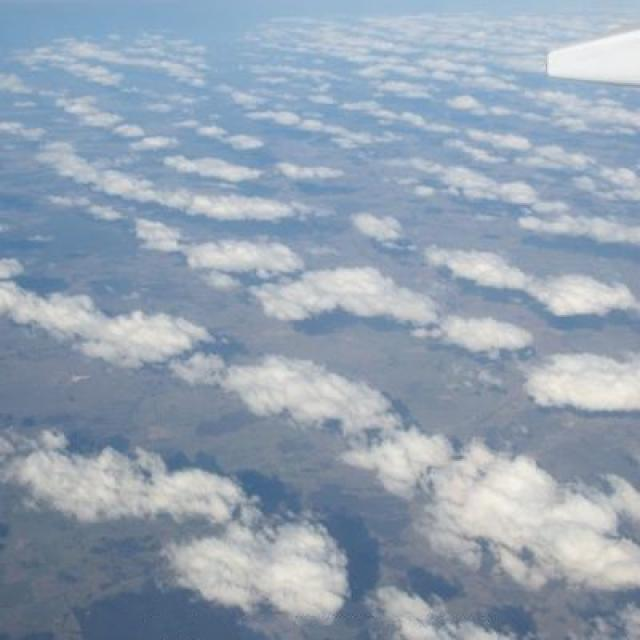Cu: (1, 75, 640, 507)
